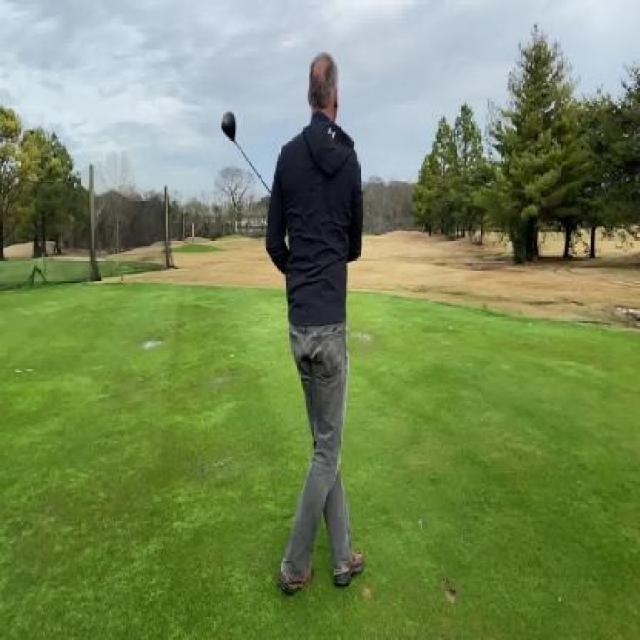club head: (221, 110, 239, 145)
